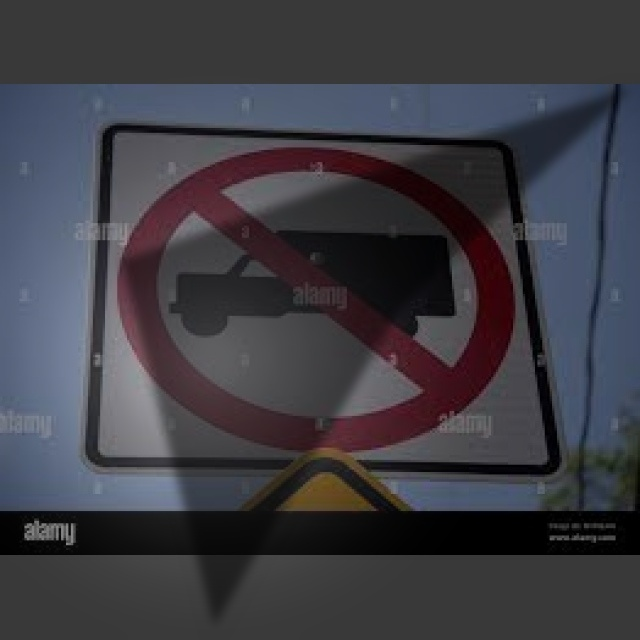Truck_Prohibited: (120, 143, 529, 448)
